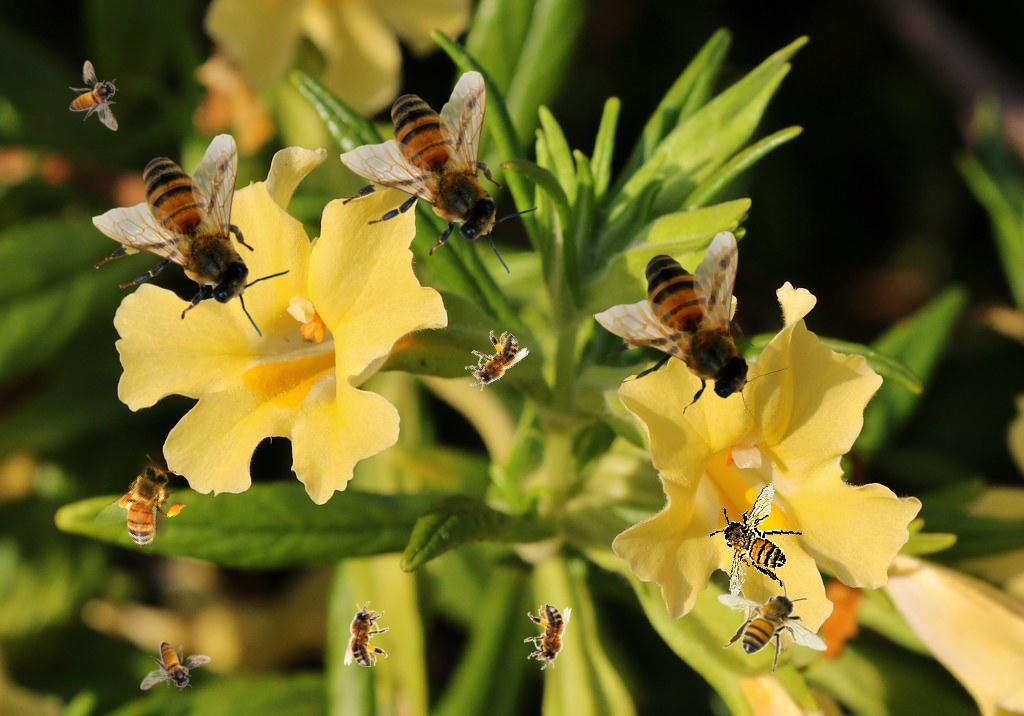Bee: (593, 229, 792, 433), (340, 70, 539, 274), (92, 133, 291, 337), (88, 449, 202, 564), (703, 479, 810, 601), (717, 580, 828, 674), (454, 321, 532, 402), (140, 641, 211, 691), (69, 60, 119, 131), (522, 603, 572, 672), (344, 601, 389, 667)
